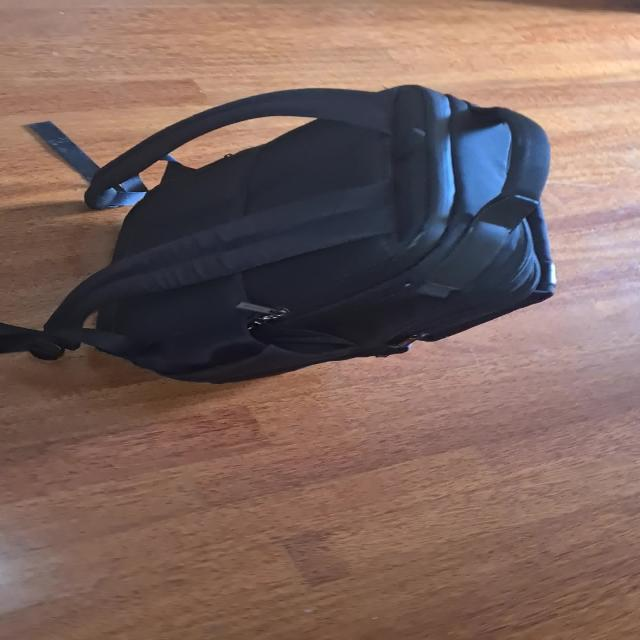backpack: (26, 74, 574, 387)
